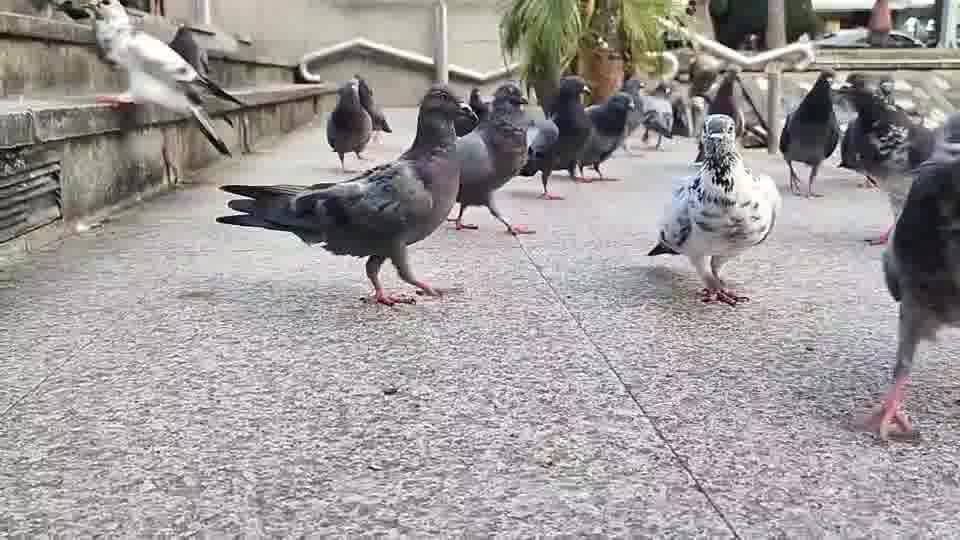Pigeon: (214, 82, 480, 307), (863, 110, 959, 442), (646, 112, 782, 307), (86, 0, 245, 159), (778, 68, 841, 199), (325, 81, 373, 171)
